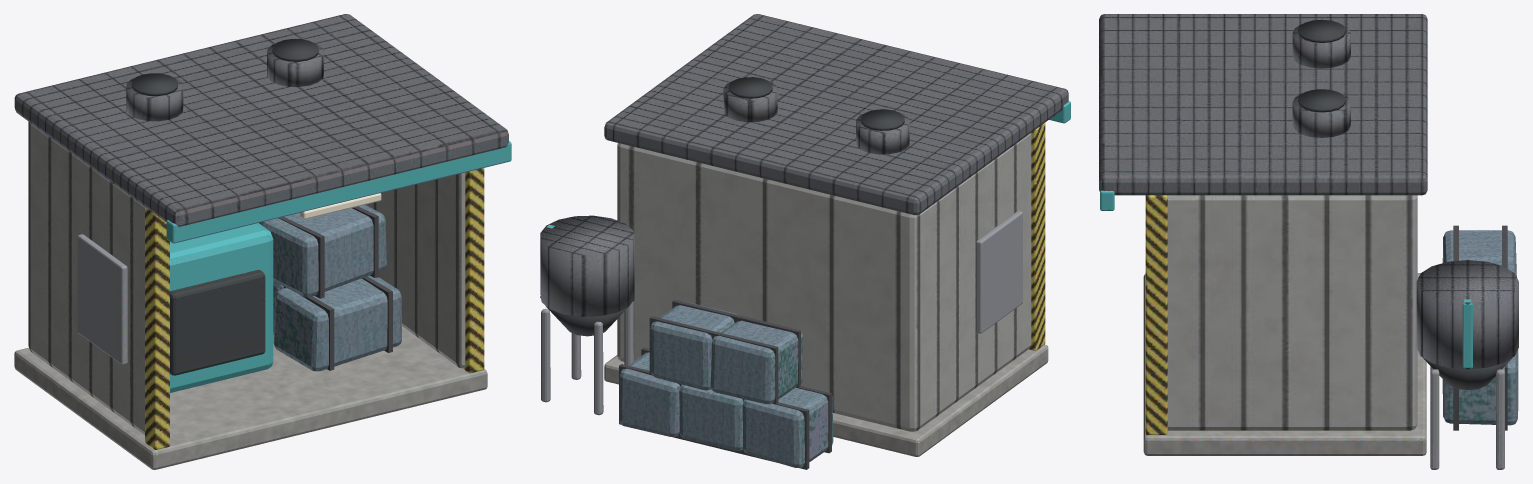
The model's file is woodcutter.glb.
3 renders of one model, left to right at view 1: azimuth 30°, elevation 25°; view 2: azimuth 150°, elevation 25°; view 3: azimuth 270°, elevation 25°, orthographic. The views are drawn at different scales.
Parts seen in each view (by area): view 1: woodcutter; view 2: woodcutter; view 3: woodcutter.
Boxes of the visible parts, x1,y1,x2,y2 form: woodcutter: [14, 14, 511, 469]; woodcutter: [540, 14, 1070, 469]; woodcutter: [1099, 14, 1518, 469].
Bounding box in the file's own units: 2.41 × 1.86 × 2.3.
1 material, 1 textured.
